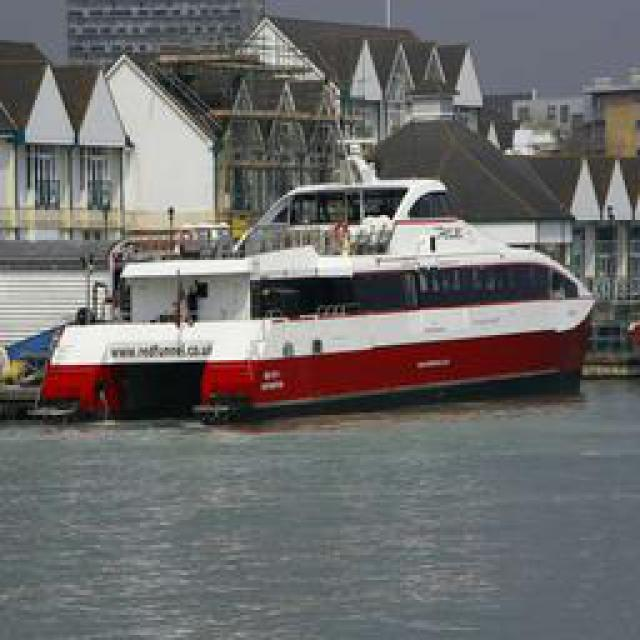Ship: (52, 178, 602, 426)
